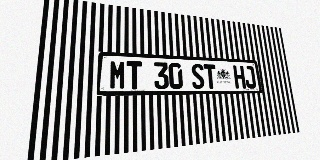0: (168, 63, 183, 89)
3: (154, 62, 169, 89)
H: (233, 65, 246, 89)
J: (243, 66, 256, 88)
M: (109, 60, 126, 90)
S: (191, 63, 205, 89)
T: (126, 61, 142, 89), (203, 64, 217, 89)
